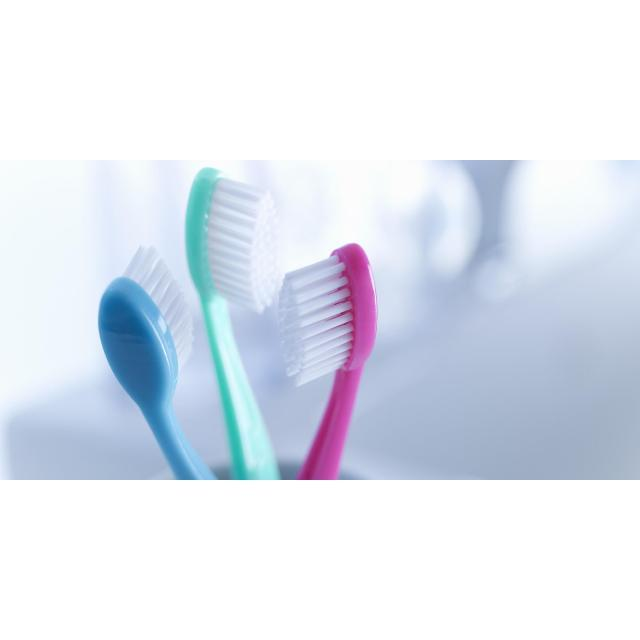toothbrush: (274, 230, 378, 480)
